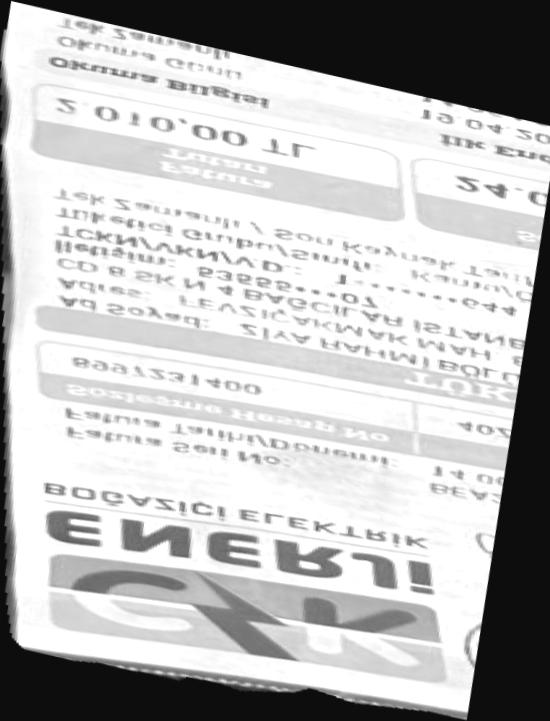electricity-bill: (0, 1, 550, 720)
